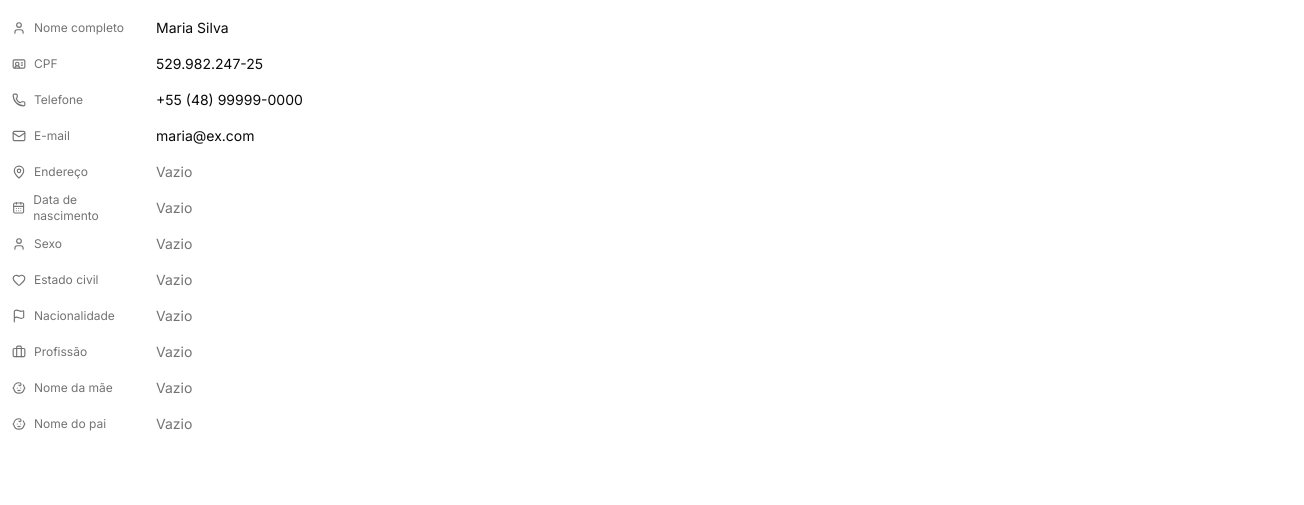
Test: ClienteDados › cancelar devolve os valores originais e fecha os campos
Click the button with aria-label "Editar Nome completo" at (192, 28), box [148,12,1292,44]
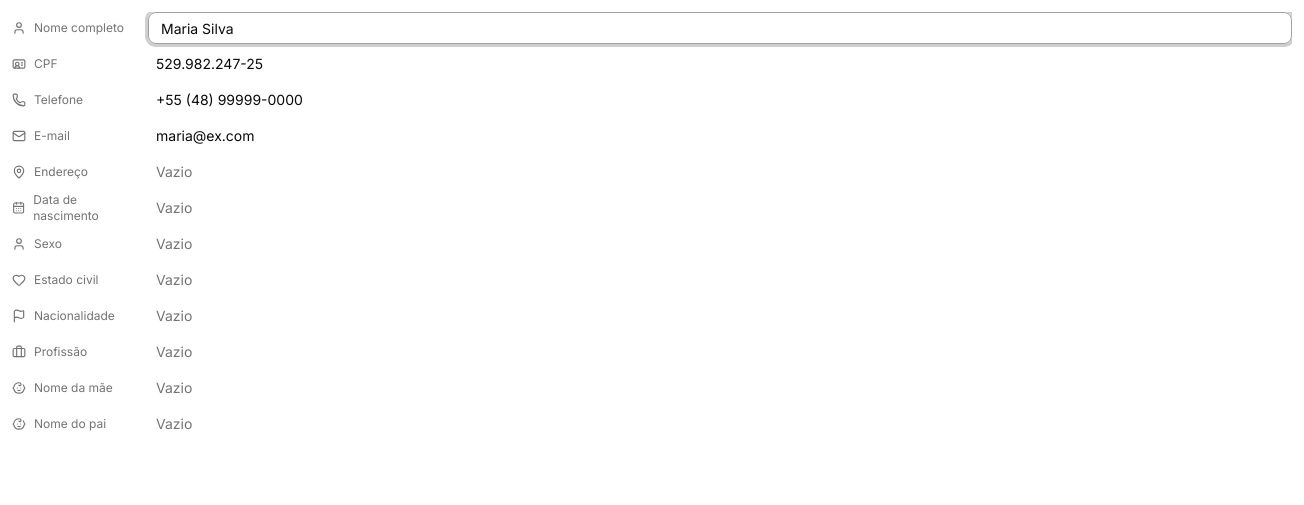
Type " Souza" into the field labelled "Nome completo" at (720, 28), box [148,12,1292,44]
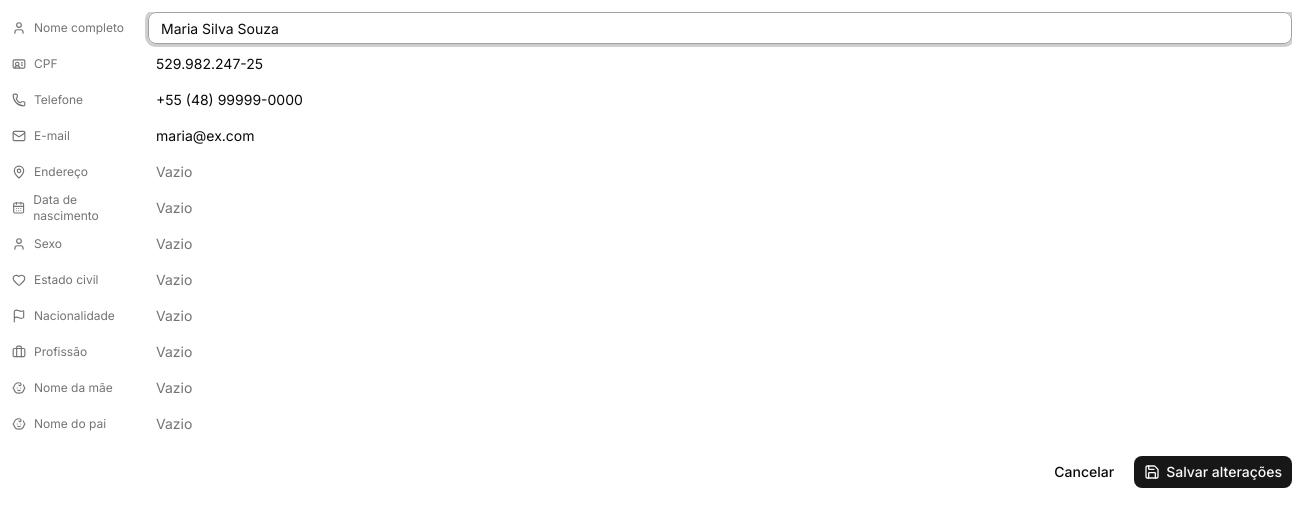
Click the button "Cancelar" at (1084, 472), box [1042,456,1126,488]
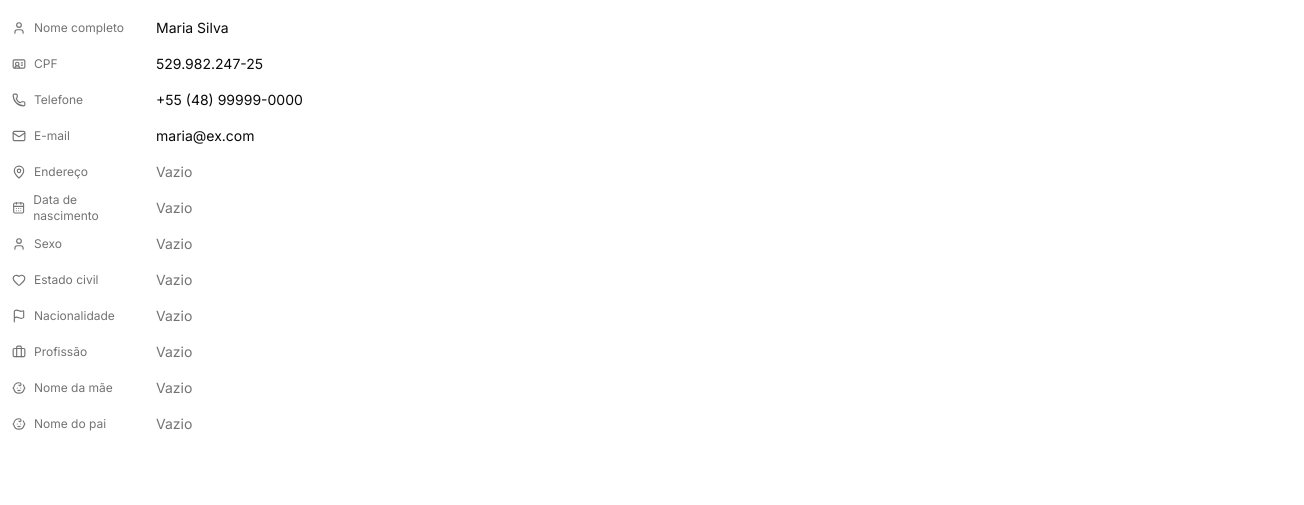
Result: the button with aria-label "Editar Nome completo" reads "Maria Silva" at [148,12,1292,44]
